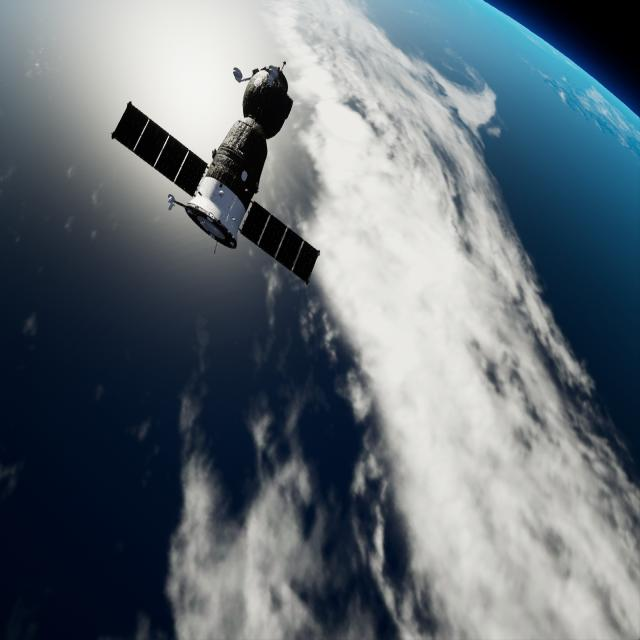Satellites revolving around earth: (109, 59, 323, 290)
